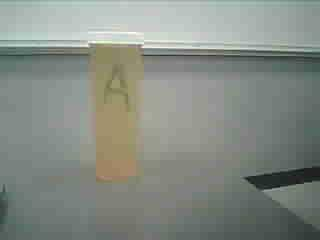Bottle A: (78, 23, 158, 186)
